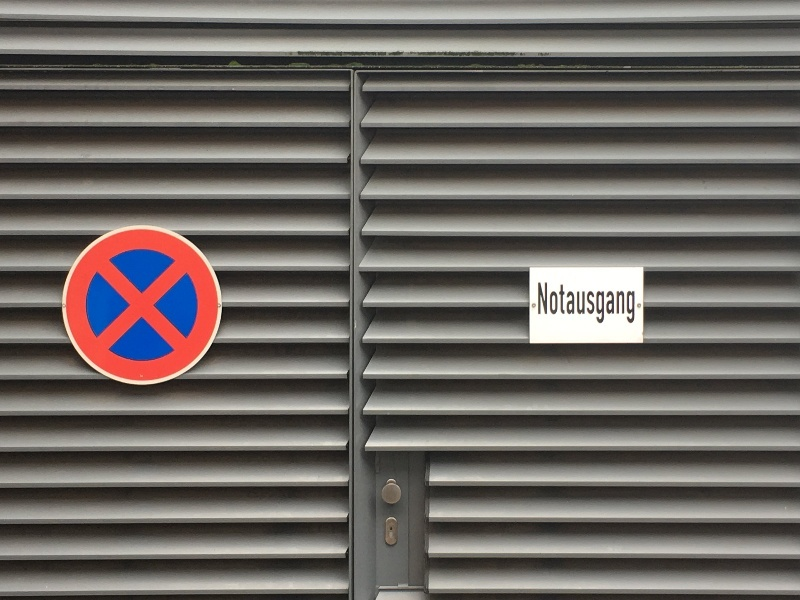text: (545, 282, 560, 329), (561, 282, 576, 329), (577, 282, 592, 329), (593, 282, 608, 329), (609, 282, 624, 329), (625, 282, 635, 329), (538, 282, 544, 329)
